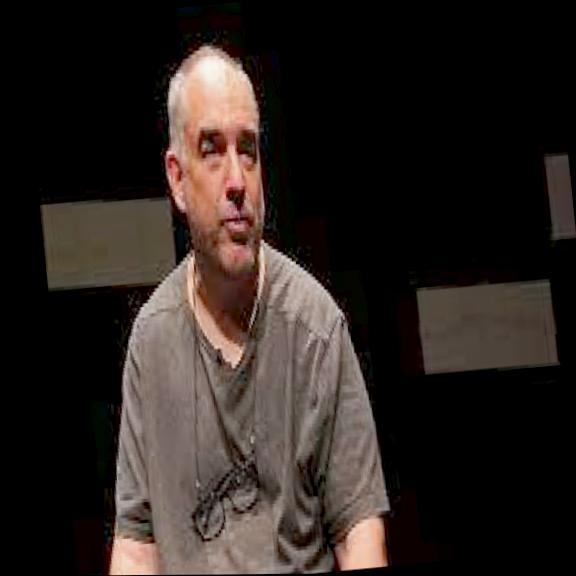no_safety_vest: (81, 236, 400, 575)
